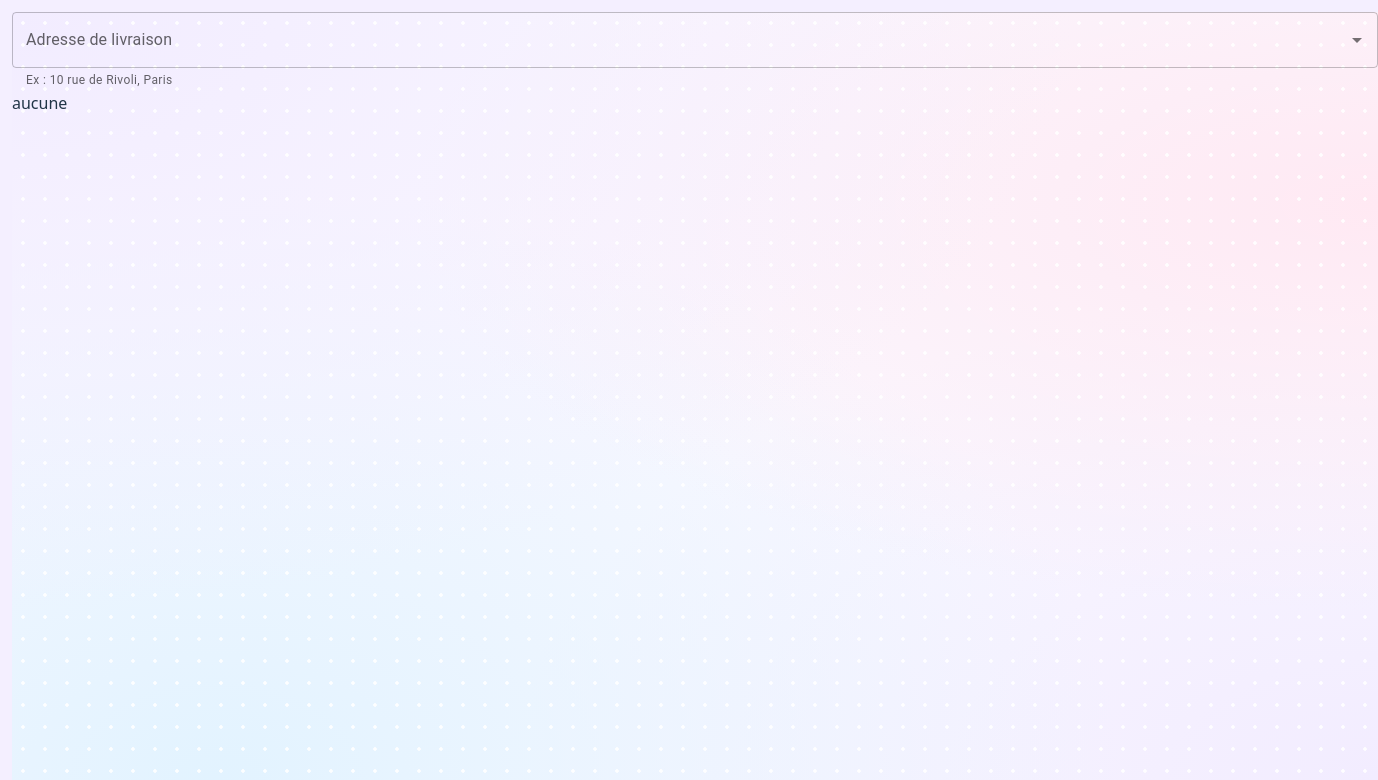
Test: AddressAutocomplete › n’interroge pas l’API pour moins de 3 caractères
Type "10" into the dropdown labelled "Adresse de livraison" at (680, 40), box [21,21,1339,59]
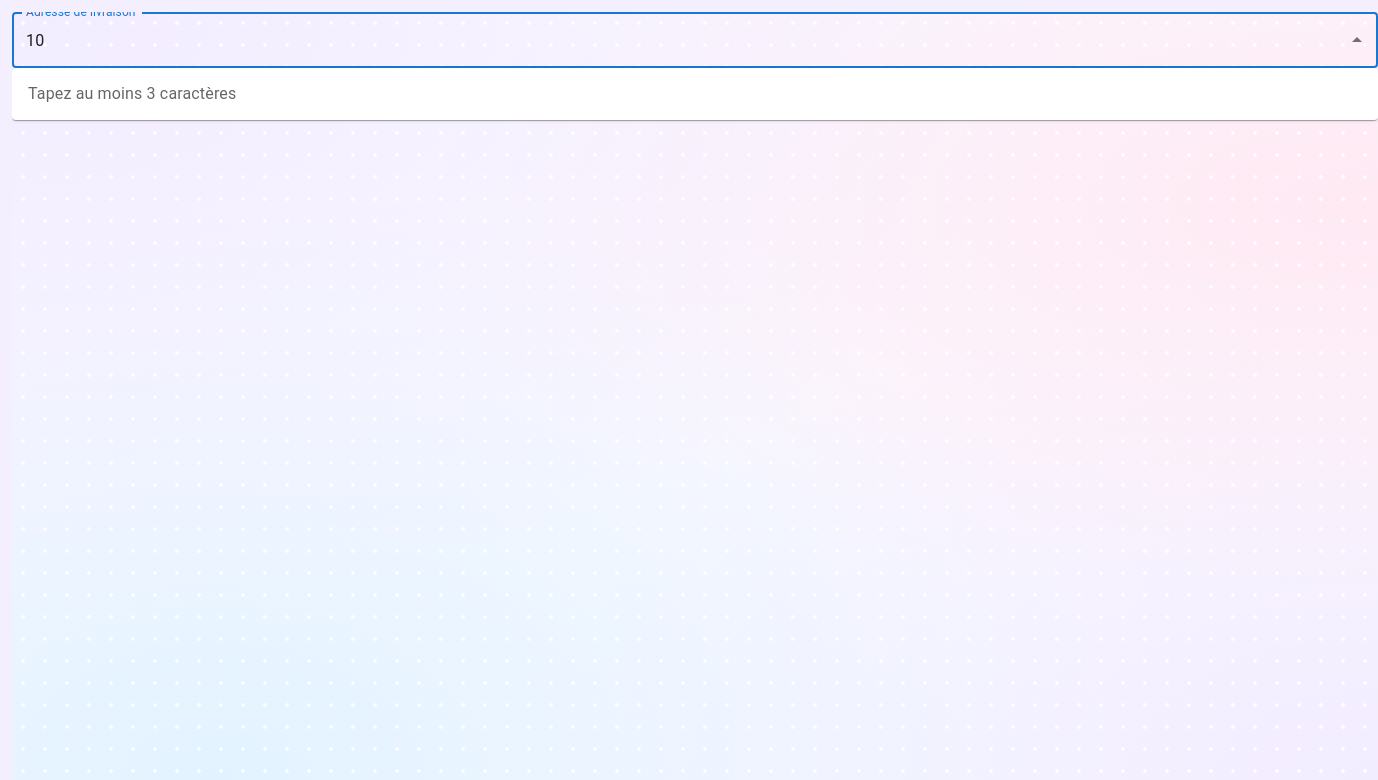
Expected: the text "Tapez au moins 3 caractères" is shown, [28,84,236,103]
